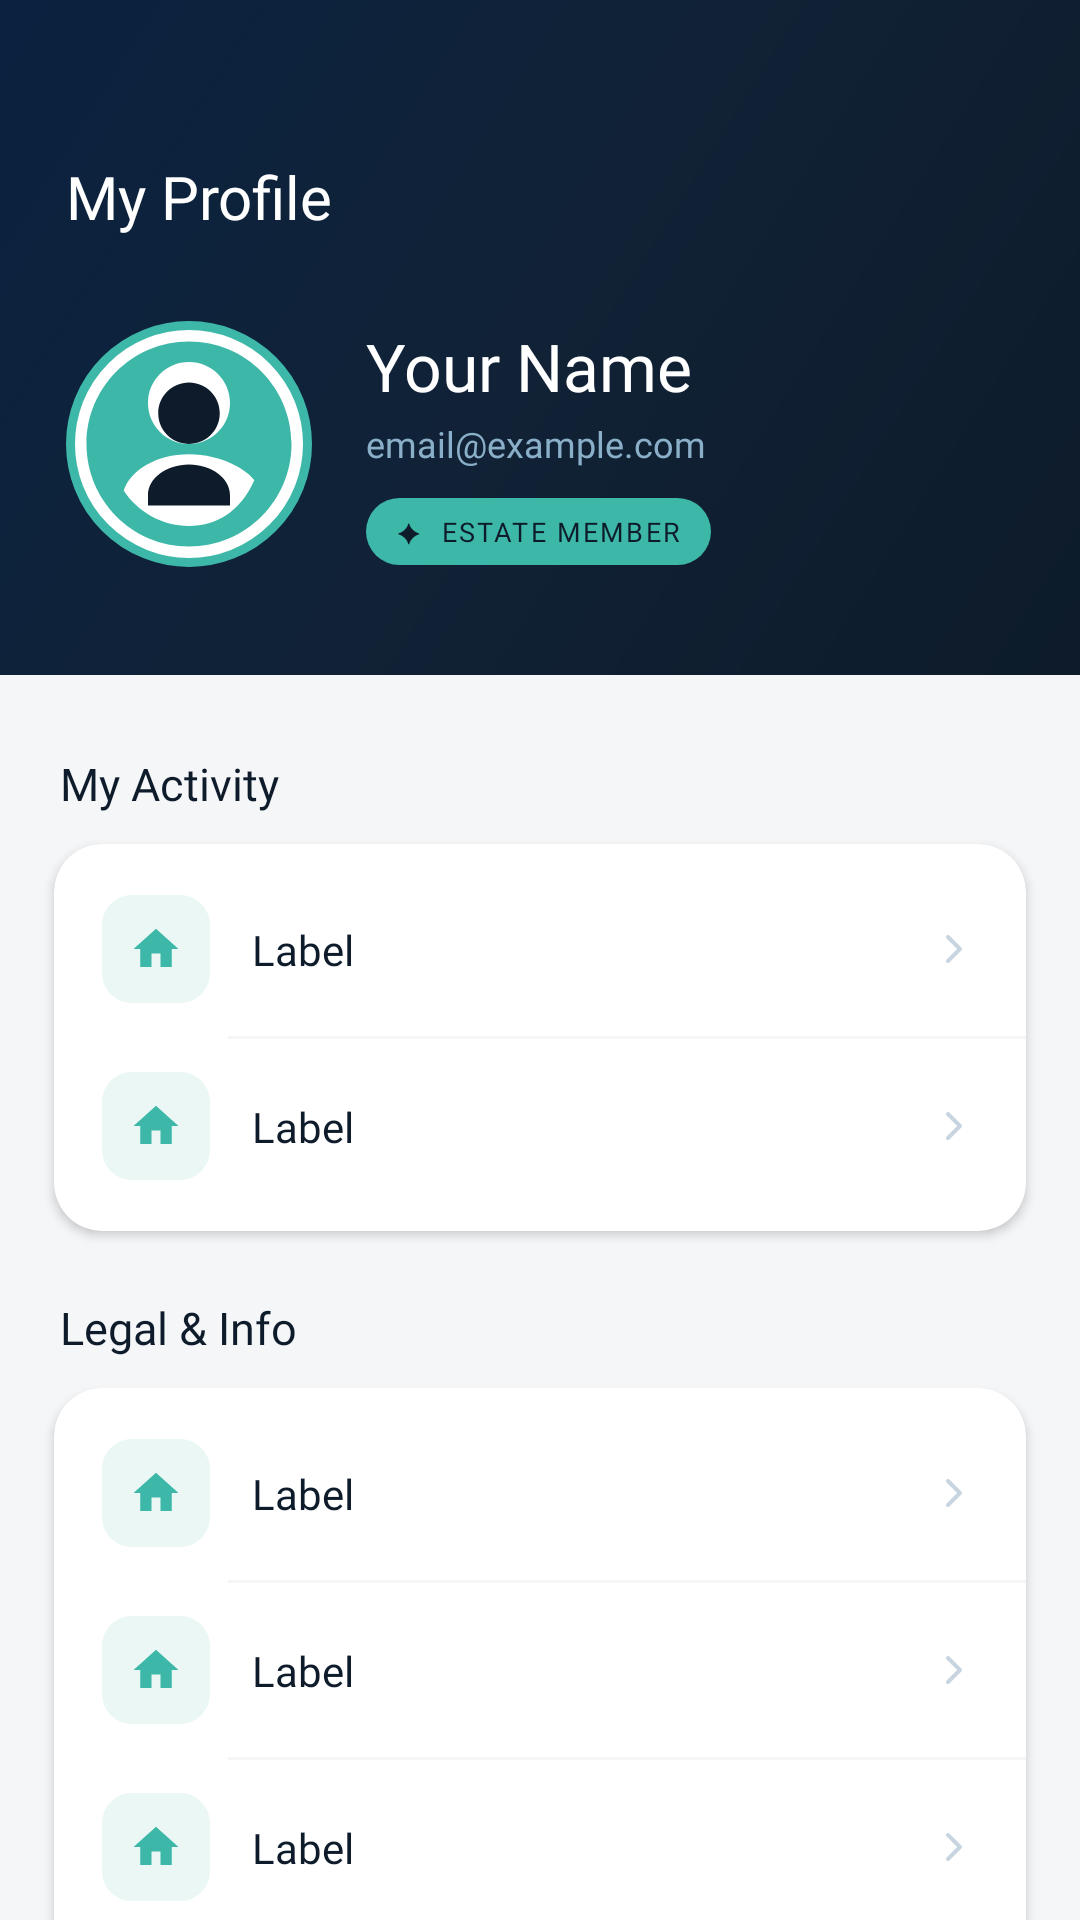

Named icons in this screenshot (1080w x 1920h) and their bounding boxes, (x1,y1,x2,y2):
chevron right: (946,935,962,963), (946,1112,962,1140), (946,1479,962,1507), (946,1656,962,1684), (946,1833,962,1861)
house: (134,929,178,967), (134,1106,178,1144), (134,1473,178,1511), (134,1650,178,1688), (134,1827,178,1865)
